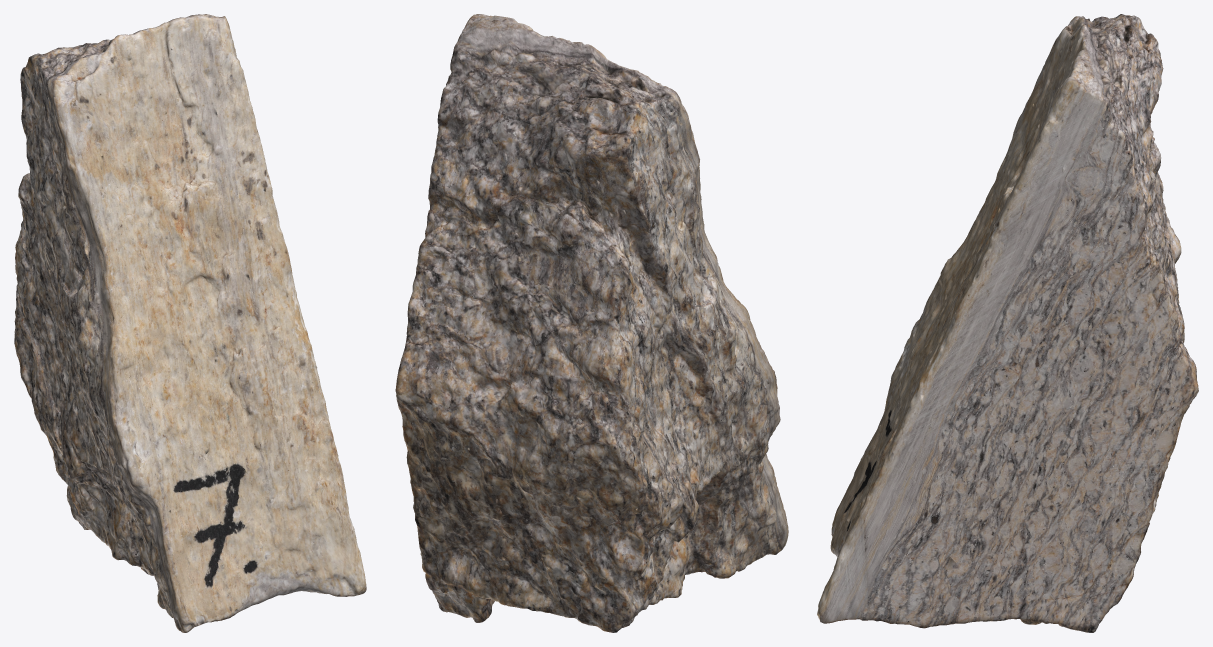
The model's file is 02_01 Basic less colour 2k.glb.
3 views of the same model, side by side, from view 1: azimuth 30°, elevation 25°; view 2: azimuth 150°, elevation 25°; view 3: azimuth 270°, elevation 25° (orthographic). The views are drawn at different scales.
Visible parts, largest first — view 1: Metashape 100000 export; view 2: Metashape 100000 export; view 3: Metashape 100000 export.
Boxes of the visible parts, x1=… form: Metashape 100000 export: x1=14, y1=14, x2=366, y2=632; Metashape 100000 export: x1=395, y1=14, x2=788, y2=632; Metashape 100000 export: x1=817, y1=14, x2=1198, y2=632.
Size of the model in its own units: 0.4947 by 1.17 by 0.7348.
Materials: 1 (1 with a texture image).
